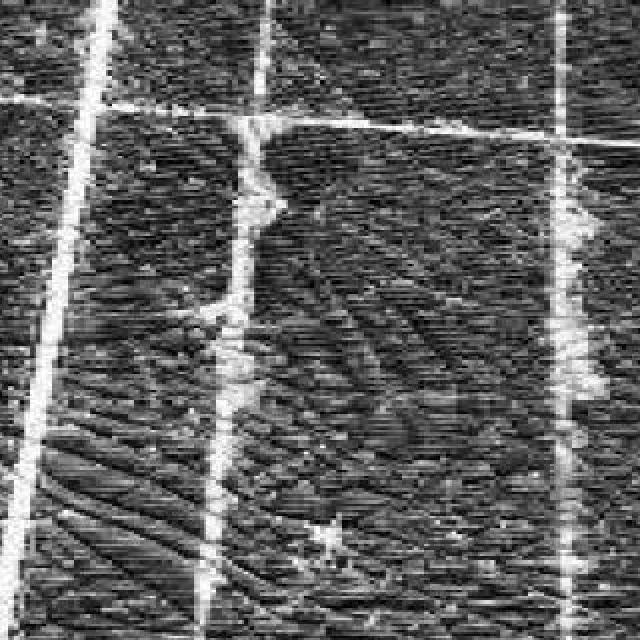Physical-damage: (4, 7, 636, 640)
